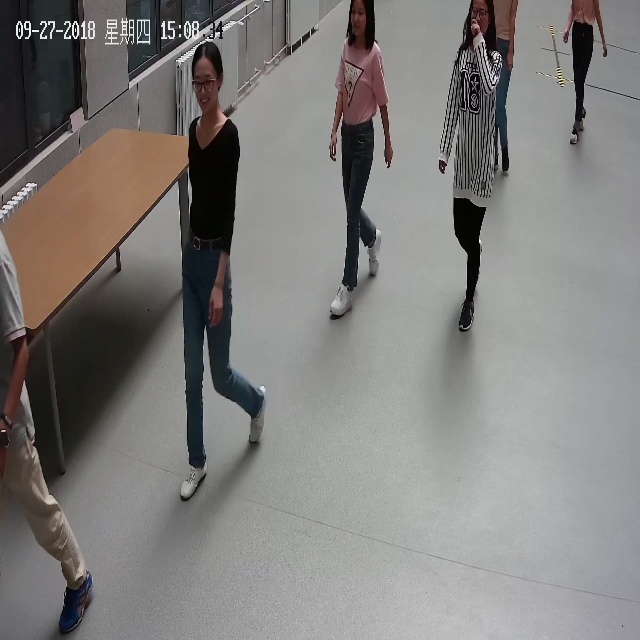head: (185, 36, 233, 116), (343, 0, 378, 45), (460, 0, 495, 41)
